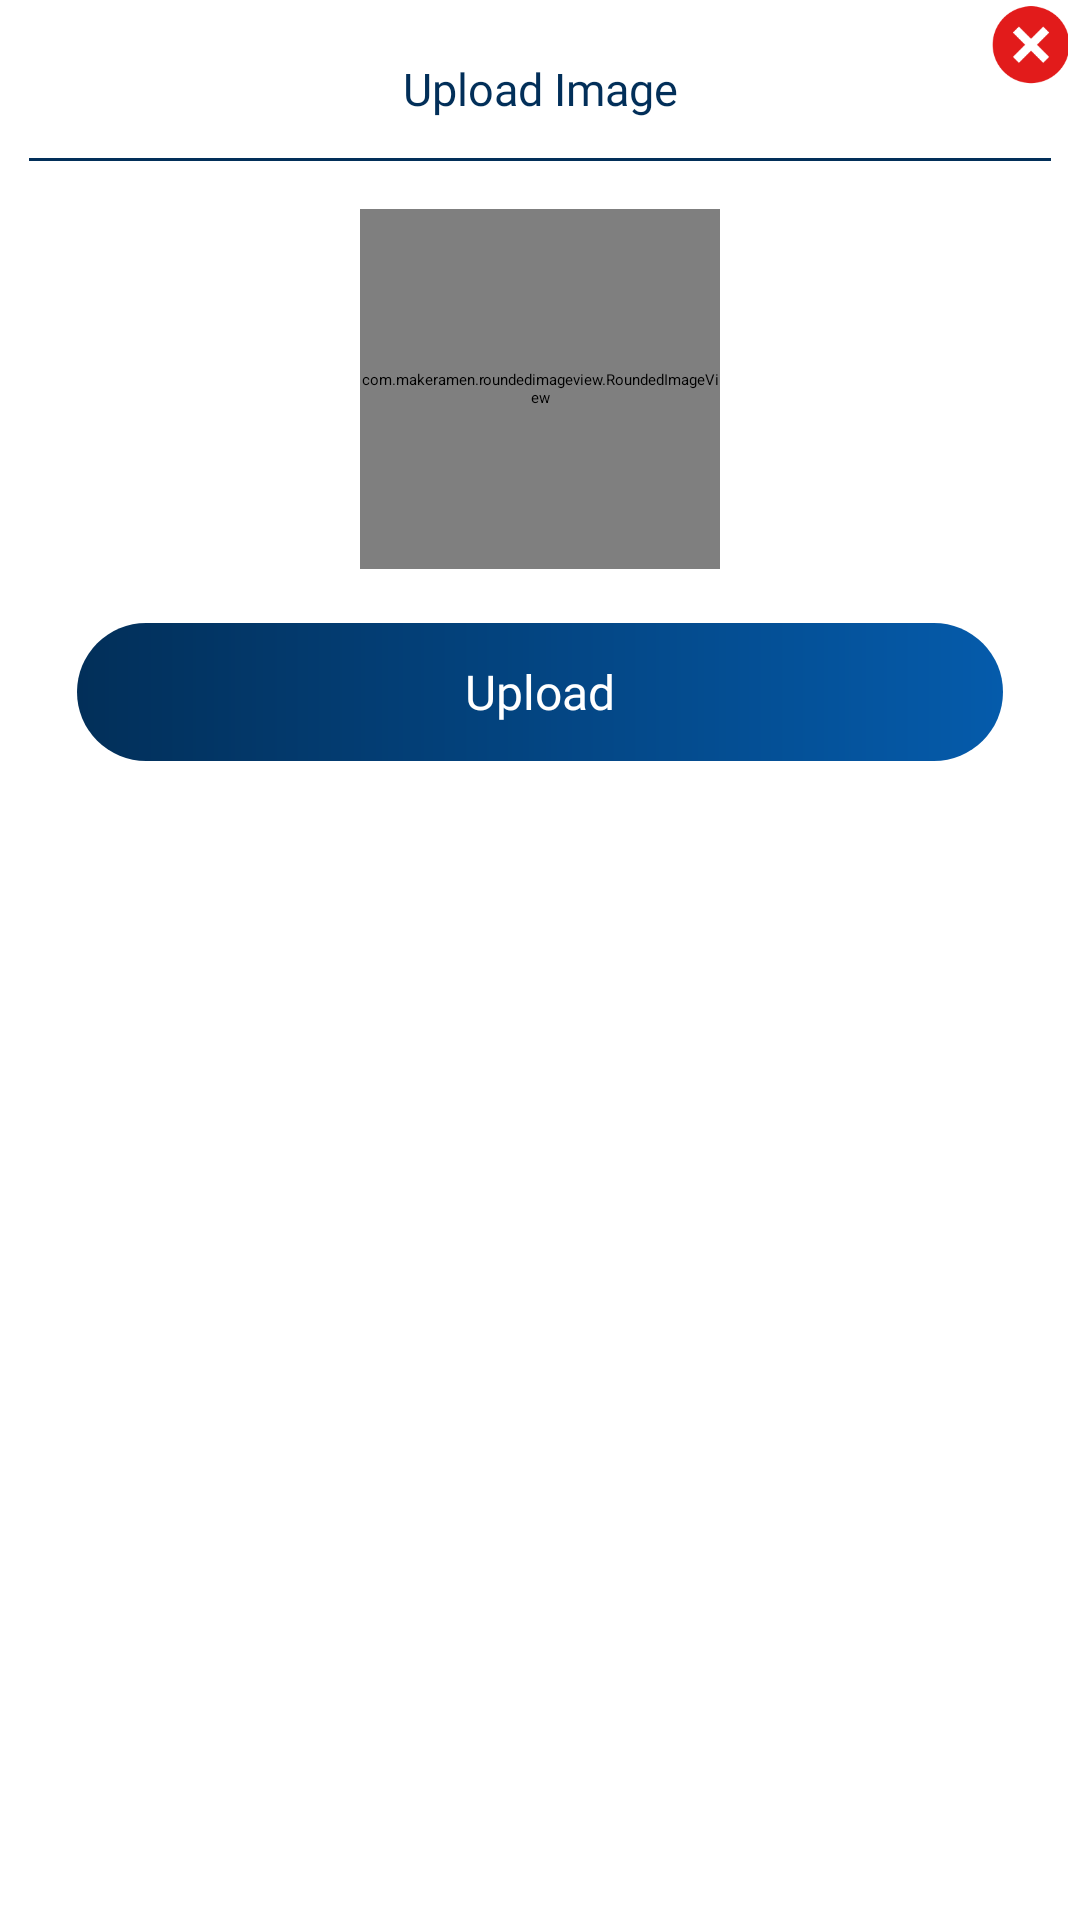

Icons on this 1080 x 1920 Android screen, each with the point to tap as (x,y):
cancel: (1030,45)
